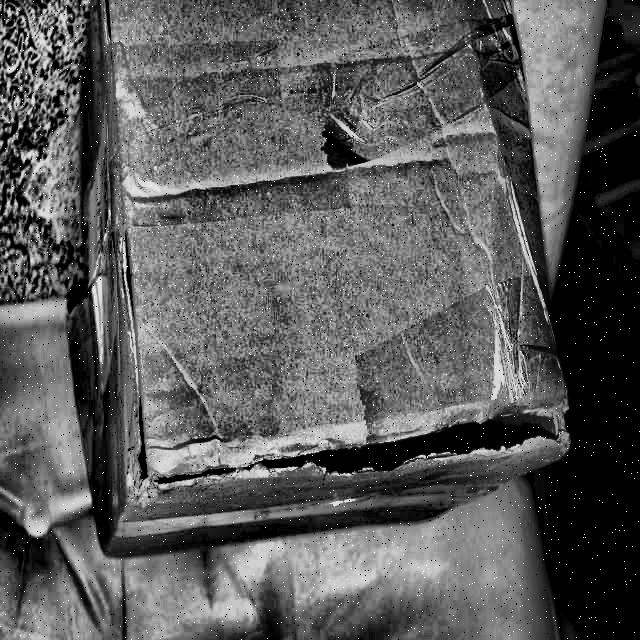box: (47, 1, 584, 585)
hole: (143, 401, 561, 491)
